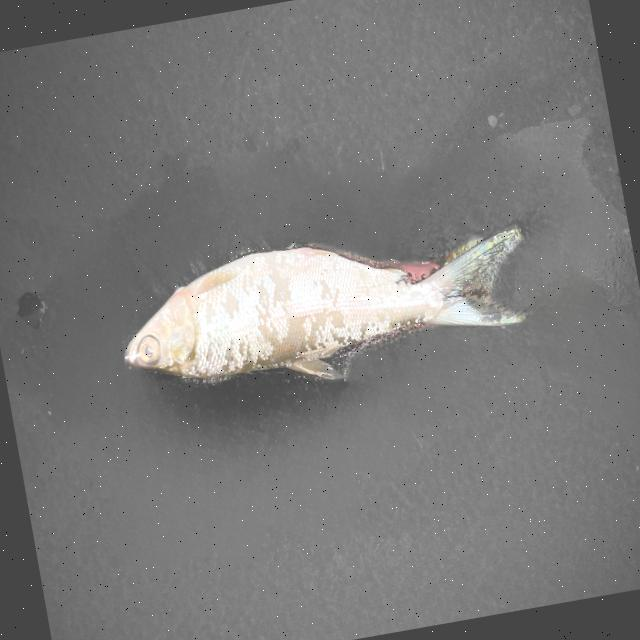465 g: (110, 208, 534, 414)
